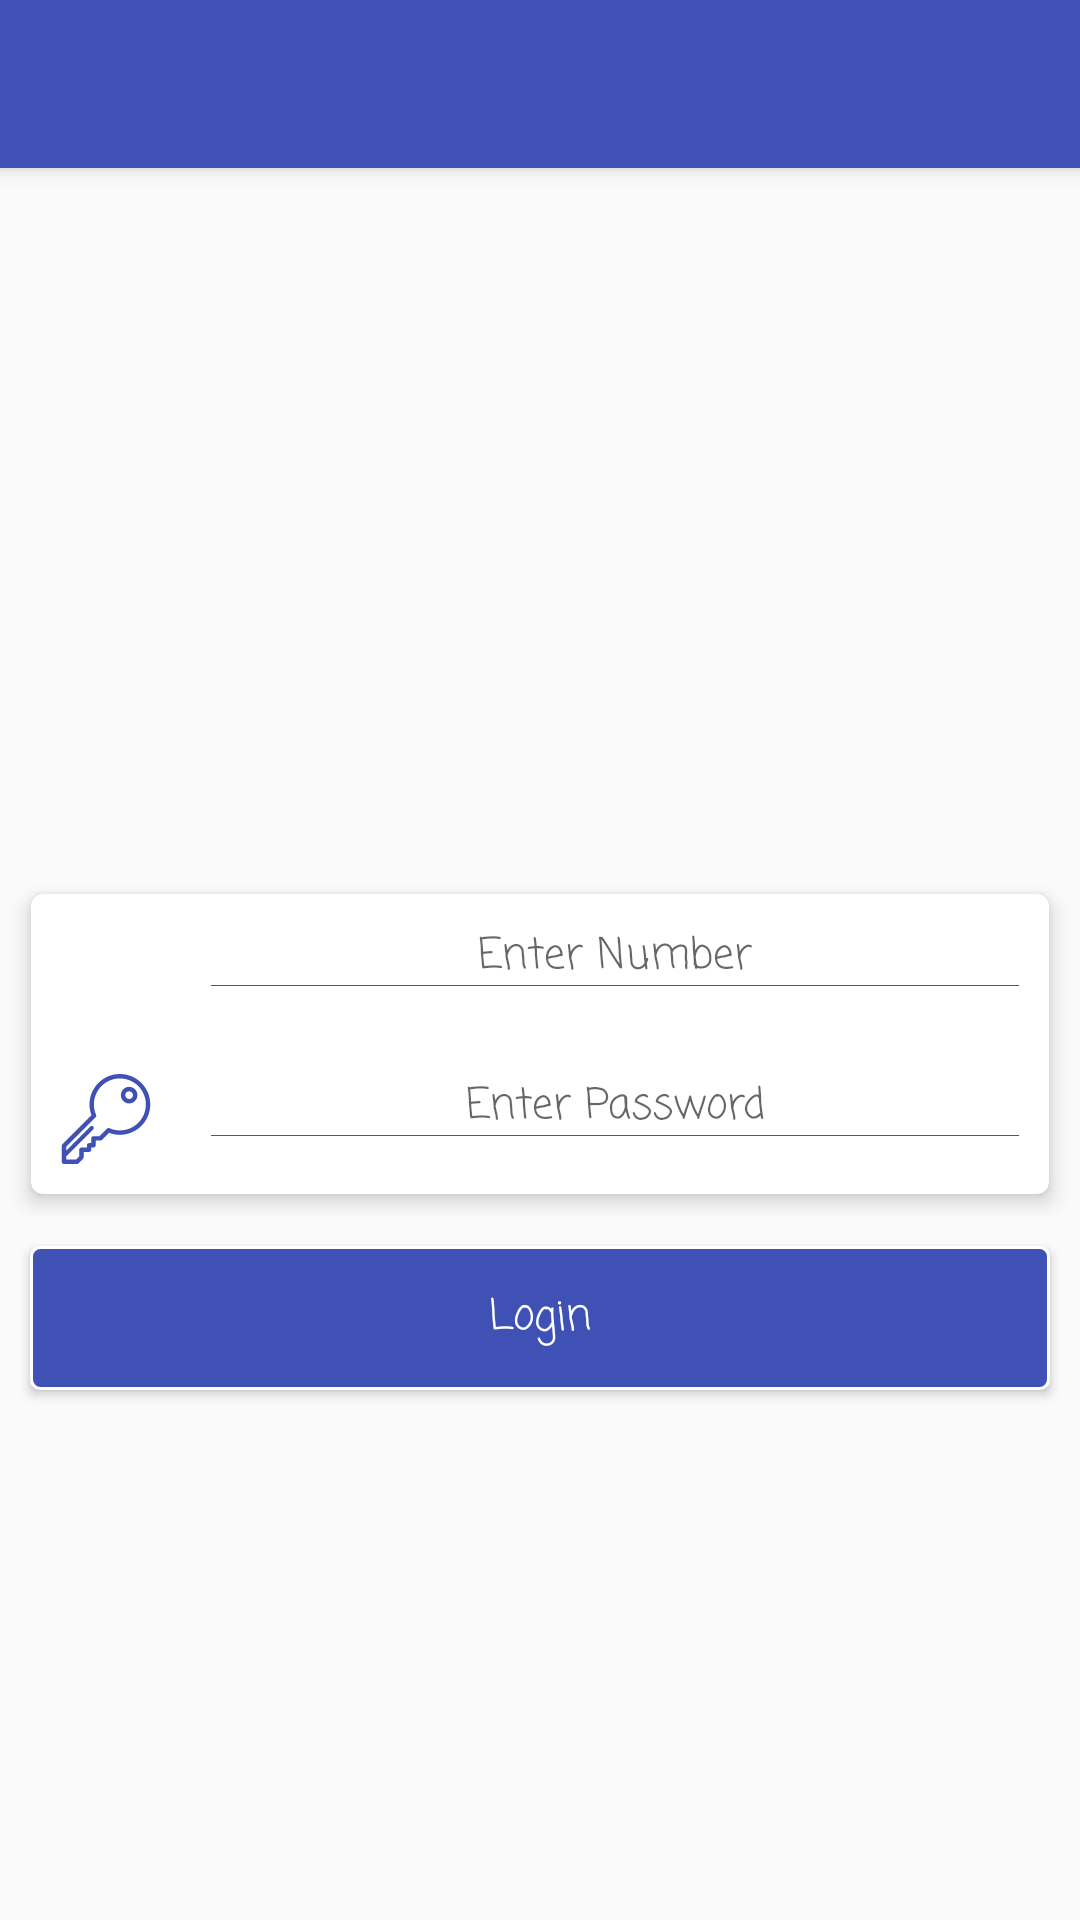

Point at icon controls on the screen. Image size 1080px×1920px, points as (x=x, y=y).
key: (x=106, y=1119)
